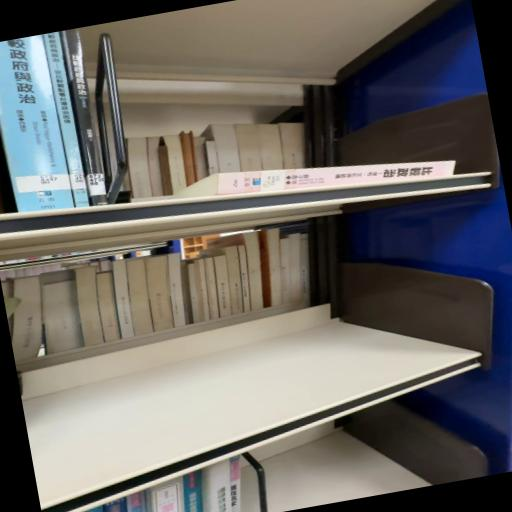flat: (173, 161, 456, 199)
